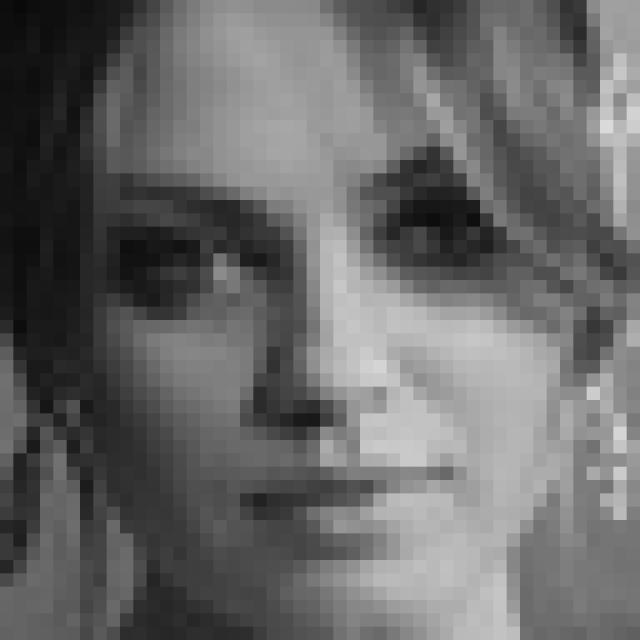neutral: (114, 143, 514, 563)
